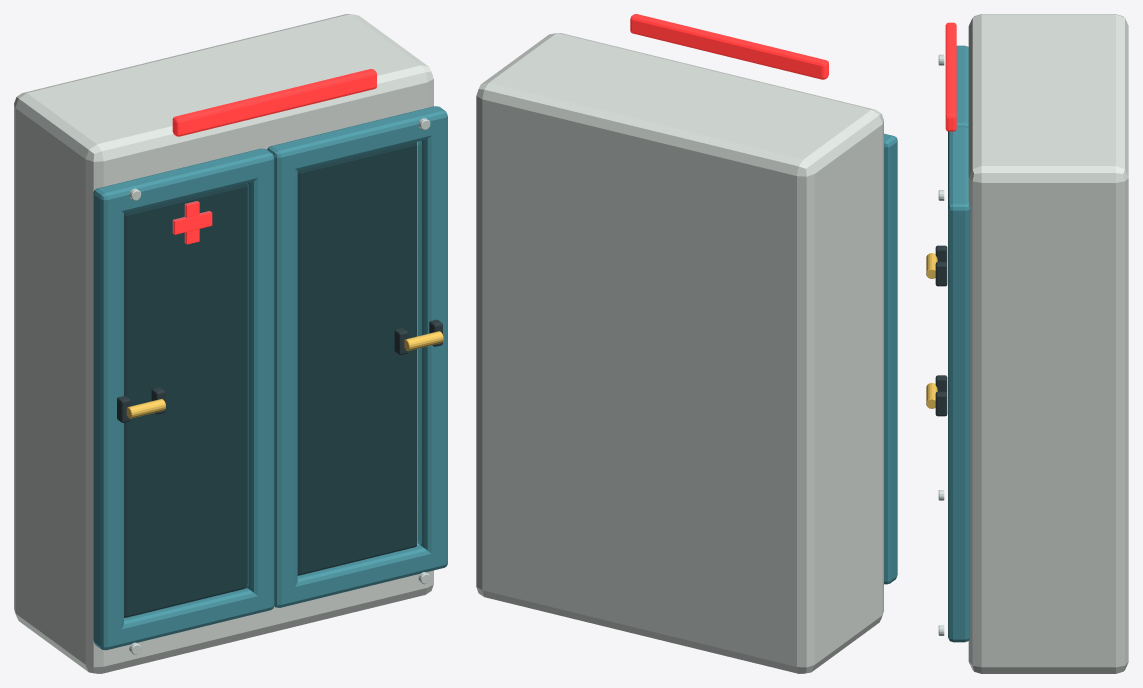
The model's file is Armoire de fournitures médicales.glb.
The picture shows the model from 3 angles, left to right: view 1: azimuth 30°, elevation 25°; view 2: azimuth 150°, elevation 25°; view 3: azimuth 270°, elevation 25°; orthographic projection. The views are drawn at different scales.
Visible parts, largest first — view 1: MEDCAB_Interior_Shadow, MEDCAB_White_Carcass, MEDCAB_Right_Glass_Insert, MEDCAB_Left_Glass_Insert, MEDCAB_Left_Door_Inner_Stile, MEDCAB_Right_Door_Inner_Stile, MEDCAB_Left_Door_Outer_Stile, MEDCAB_Right_Door_Outer_Stile, MEDCAB_Left_Door_Frame_Top, MEDCAB_Right_Door_Frame_Top, MEDCAB_Left_Door_Frame_Bottom, MEDCAB_Right_Door_Frame_Bottom (+1 smaller); view 2: MEDCAB_White_Carcass, MEDCAB_Left_Door_Inner_Stile, MEDCAB_Top_Red_Light_Bar; view 3: MEDCAB_White_Carcass, MEDCAB_Right_Door_Inner_Stile, MEDCAB_Right_Door_Frame_Top, MEDCAB_Top_Red_Light_Bar, MEDCAB_Left_Door_Frame_Top, MEDCAB_Right_Door_Frame_Bottom, MEDCAB_Right_Handle_Right_Mount.
Part boxes in pixels (x1,y1,x2,y2): MEDCAB_Interior_Shadow: [124, 142, 416, 617]; MEDCAB_White_Carcass: [14, 14, 433, 673]; MEDCAB_Right_Glass_Insert: [298, 141, 421, 576]; MEDCAB_Left_Glass_Insert: [124, 183, 248, 618]; MEDCAB_Left_Door_Inner_Stile: [93, 188, 123, 646]; MEDCAB_Right_Door_Inner_Stile: [417, 117, 447, 570]; MEDCAB_Left_Door_Outer_Stile: [247, 156, 274, 606]; MEDCAB_Right_Door_Outer_Stile: [274, 150, 297, 603]; MEDCAB_Left_Door_Frame_Top: [93, 148, 274, 214]; MEDCAB_Right_Door_Frame_Top: [267, 106, 447, 172]; MEDCAB_Left_Door_Frame_Bottom: [93, 588, 274, 650]; MEDCAB_Right_Door_Frame_Bottom: [274, 543, 447, 607]; MEDCAB_White_Carcass: [476, 33, 883, 673]; MEDCAB_Left_Door_Inner_Stile: [884, 141, 897, 572]; MEDCAB_Top_Red_Light_Bar: [630, 14, 828, 79]; MEDCAB_White_Carcass: [968, 14, 1128, 673]; MEDCAB_Right_Door_Inner_Stile: [948, 212, 970, 640]; MEDCAB_Right_Door_Frame_Top: [948, 127, 970, 224]; MEDCAB_Top_Red_Light_Bar: [945, 22, 956, 131]; MEDCAB_Left_Door_Frame_Top: [956, 45, 968, 127]; MEDCAB_Right_Door_Frame_Bottom: [948, 624, 970, 642]; MEDCAB_Right_Handle_Right_Mount: [935, 391, 947, 416].
Bounding box in the file's own units: 1.2 × 1.82 × 0.633.
